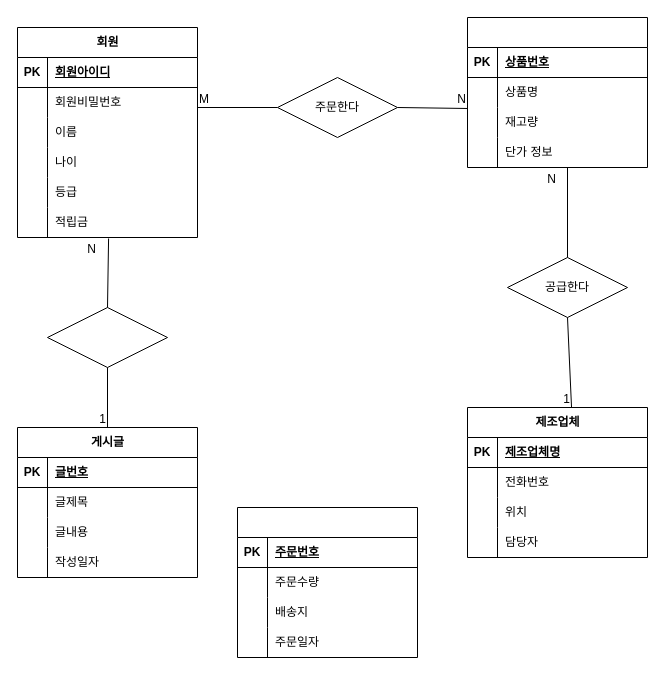
Some shapes in this 665 by 675 pixel diagram are drawn without their labels. Each missing label, with the box of its shape:
상품: (466, 16, 648, 168)
작성한다: (46, 306, 168, 368)
주문정보: (236, 506, 418, 658)
